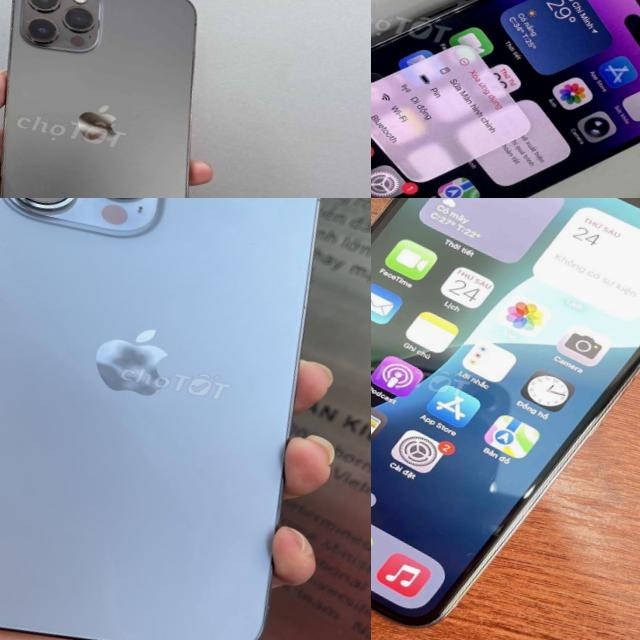gen_12_13: (0, 198, 371, 640), (0, 0, 196, 198)
gen_14: (371, 0, 640, 198)
gen_x_xs: (371, 198, 640, 625)
